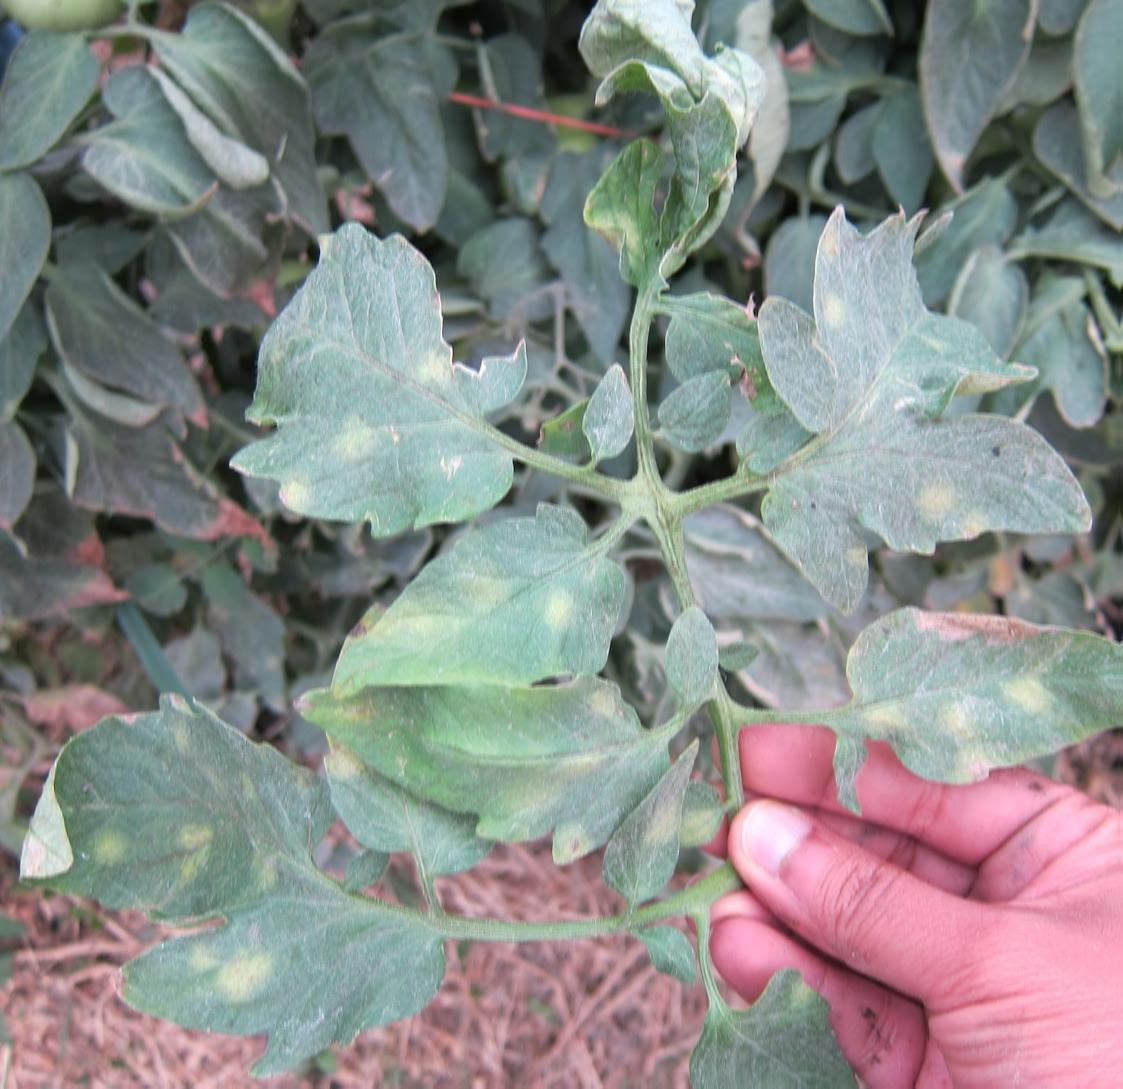Tomato mold leaf: (755, 192, 1106, 598), (228, 225, 544, 541), (315, 503, 624, 788), (0, 674, 342, 926), (283, 697, 704, 900), (51, 891, 503, 1076), (835, 566, 1123, 805), (572, 0, 772, 287), (674, 960, 889, 1089)
